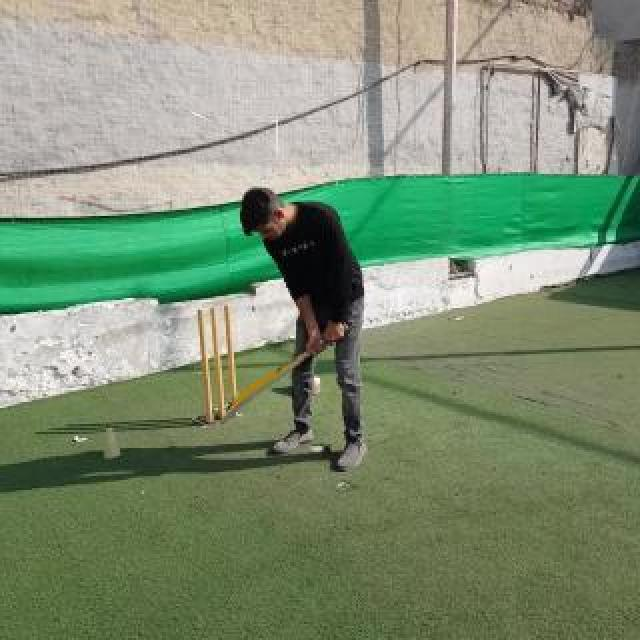bat: (220, 324, 350, 426)
